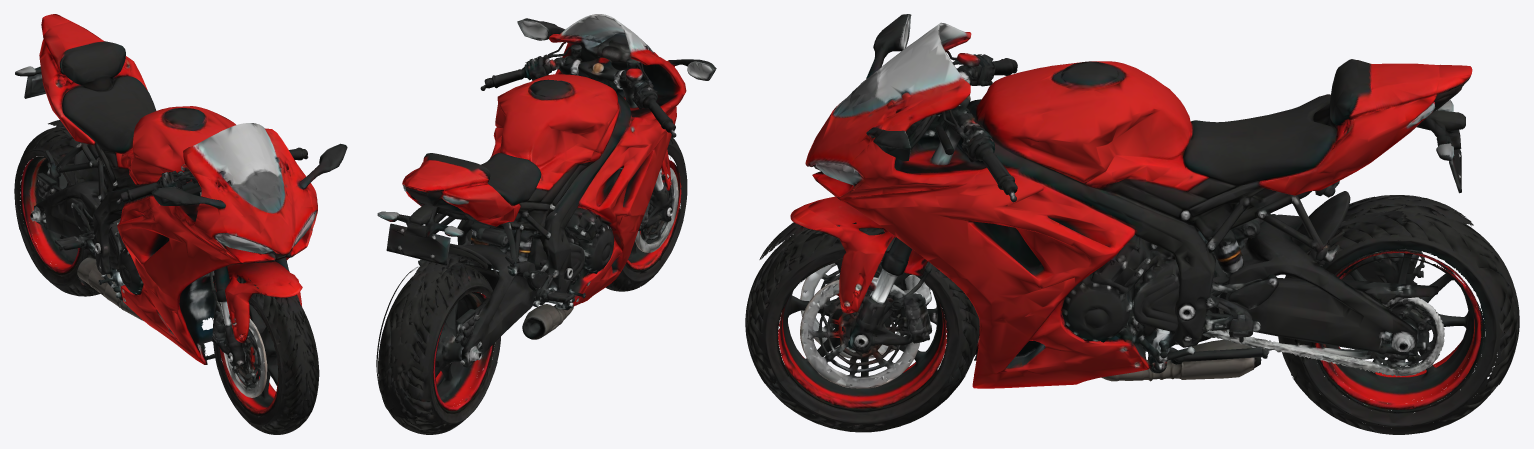
The model's file is bike.glb.
3 views of the same model, side by side, from view 1: azimuth 30°, elevation 25°; view 2: azimuth 150°, elevation 25°; view 3: azimuth 270°, elevation 25° (orthographic). The views are drawn at different scales.
Parts seen in each view (by area): view 1: motorcycle_body, wheel_front, wheel_rear; view 2: motorcycle_body, wheel_rear, wheel_front; view 3: motorcycle_body, wheel_front, wheel_rear.
Boxes of the visible parts, left/top/right/bottom form: motorcycle_body: left=15, top=14, right=347, bottom=397; wheel_front: left=212, top=276, right=319, bottom=434; wheel_rear: left=14, top=127, right=119, bottom=296; motorcycle_body: left=376, top=14, right=716, bottom=406; wheel_rear: left=378, top=262, right=500, bottom=434; wheel_front: left=605, top=136, right=687, bottom=291; motorcycle_body: left=759, top=14, right=1500, bottom=428; wheel_front: left=745, top=222, right=979, bottom=432; wheel_rear: left=1278, top=209, right=1519, bottom=434.
Bounding box in the file's own units: 0.9931 × 1.4 × 2.44.
1 material, 1 textured.
